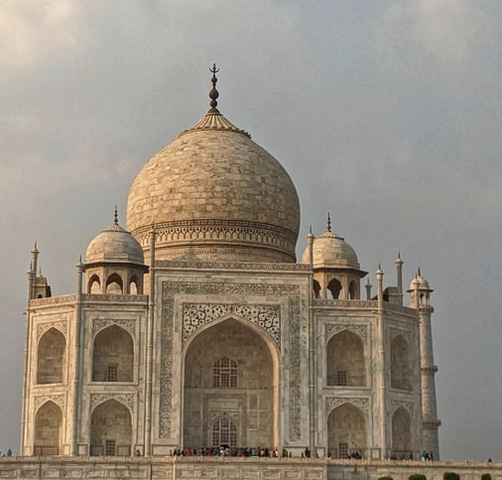Mosque: (24, 59, 447, 465)
